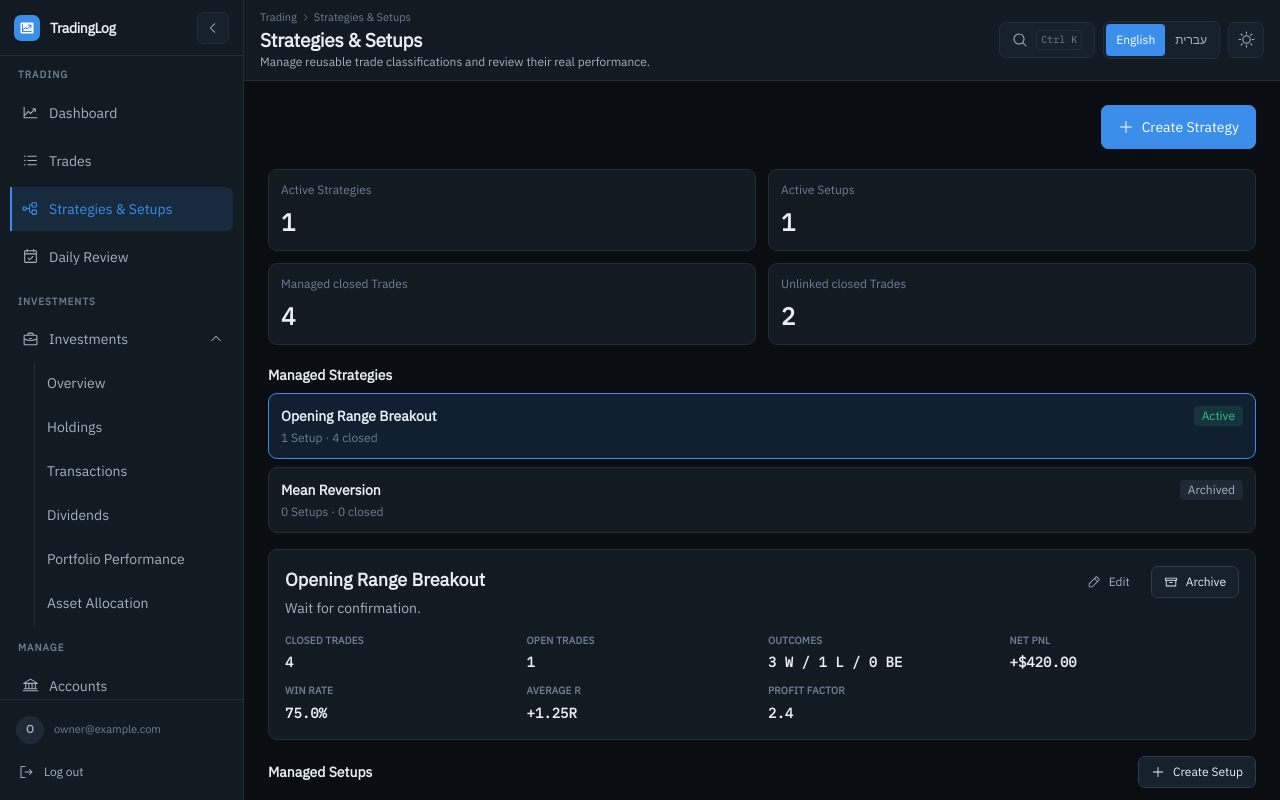
Test case: Strategies & Setups page › preselects the parent for Setup creation and keeps it immutable while editing
Click the button "Create Setup" at (1197, 772), box x1=1138 y1=756 x2=1256 y2=788
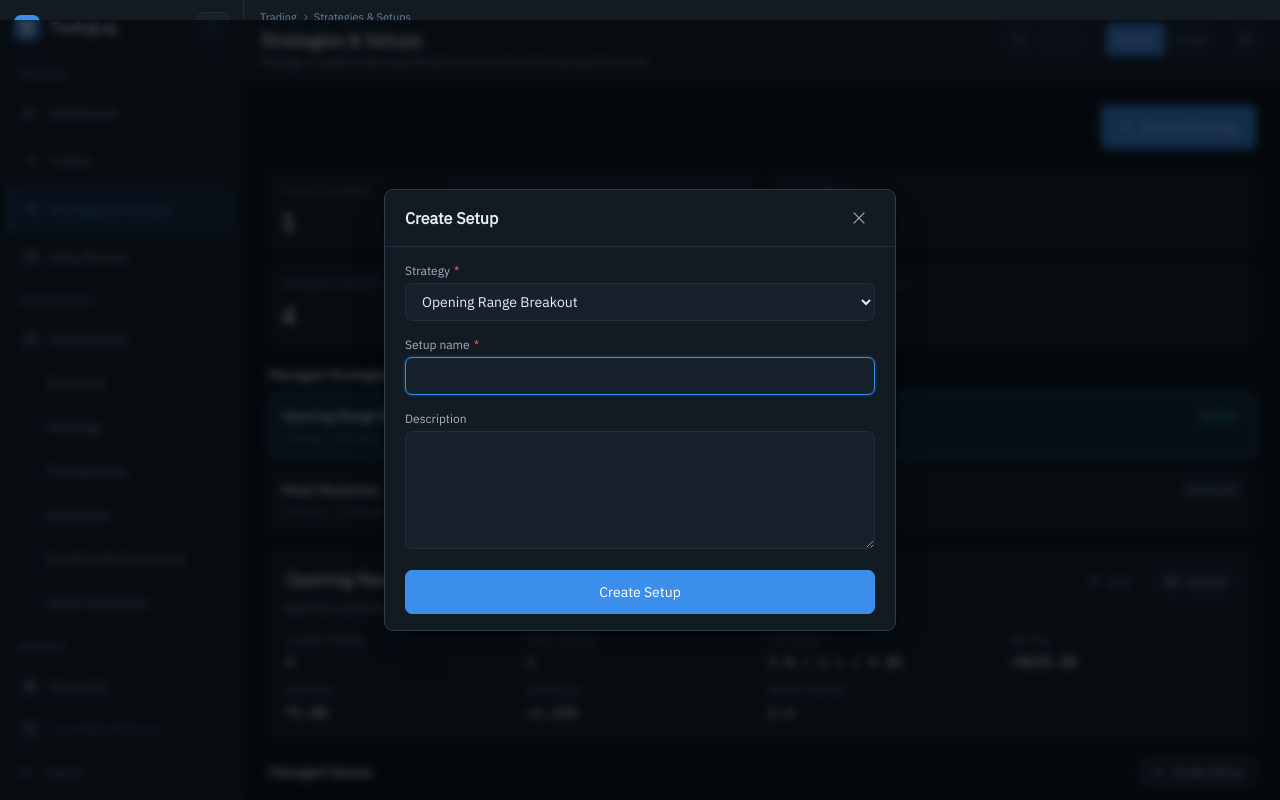
Expected: the dropdown labelled "Strategy*" shows "Opening Range Breakout", x1=405 y1=283 x2=875 y2=321
Press Escape
(page scrolled)
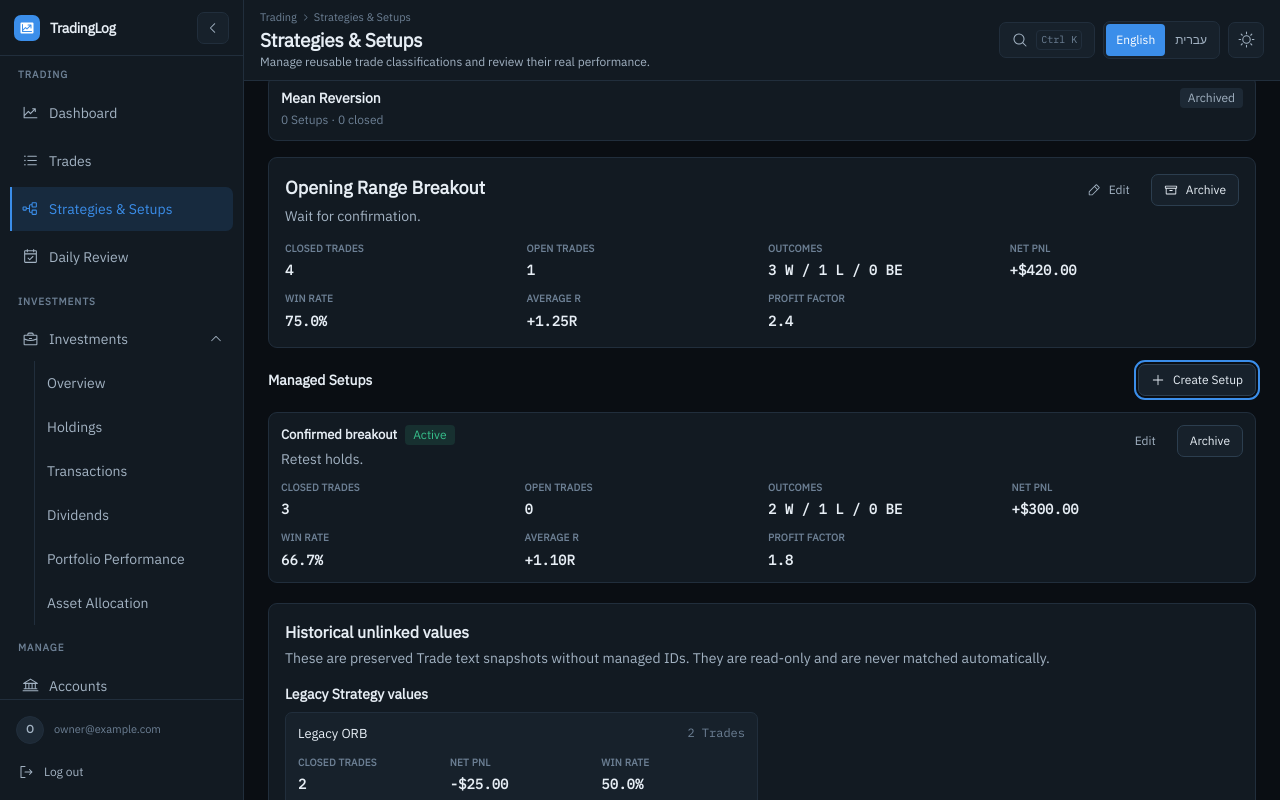
Click the button "Edit" in the row of "Active" at (1145, 441), box x1=1122 y1=425 x2=1169 y2=457
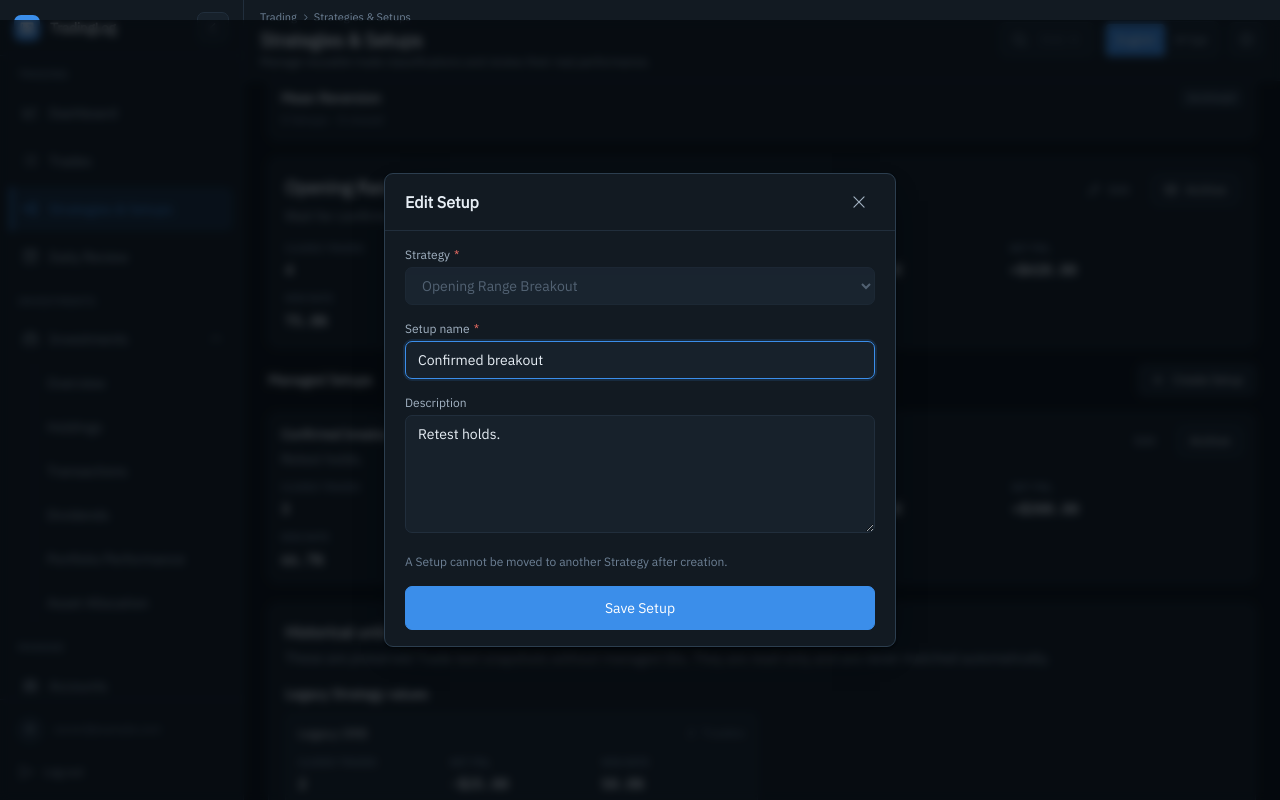
Expected: the dropdown labelled "Strategy*" is disabled, x1=405 y1=267 x2=875 y2=305
Expected: the text "A Setup cannot be moved to another Strategy after creation." is shown, x1=405 y1=554 x2=728 y2=569
